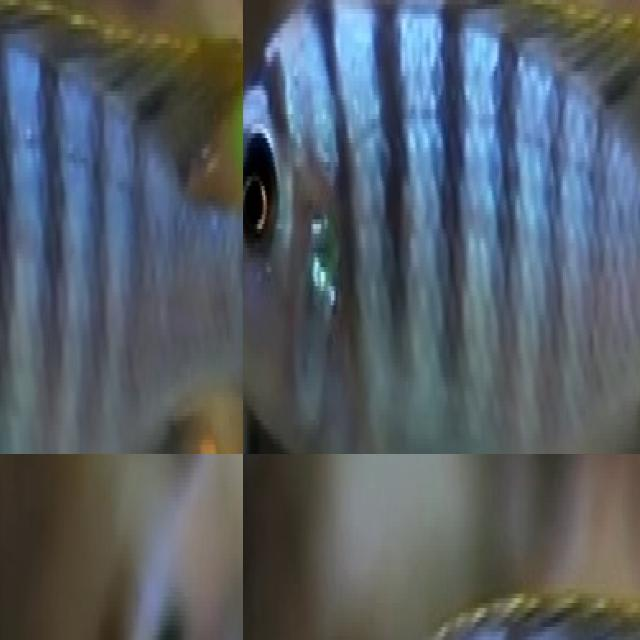fish: (243, 0, 640, 454), (0, 0, 243, 454), (243, 526, 640, 640)
